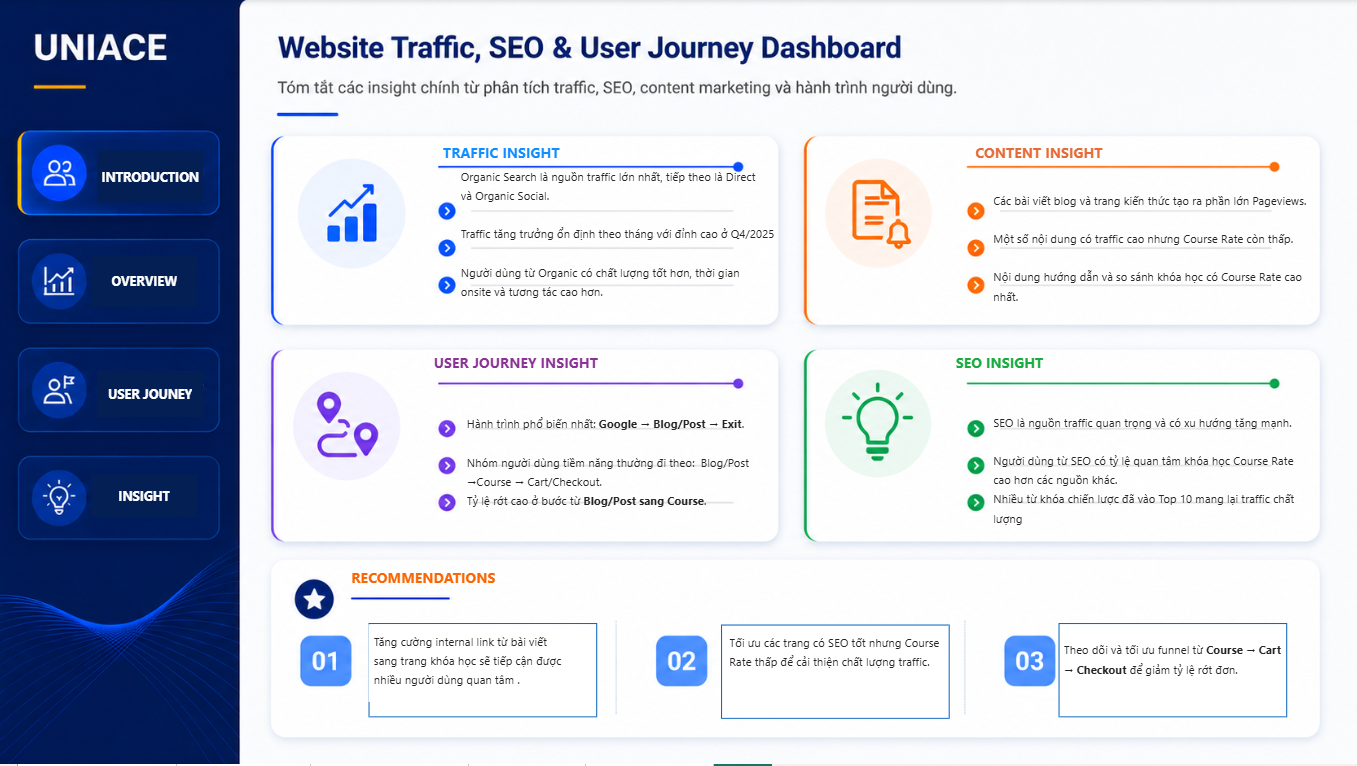

What the dashboard file says about the page in this screenshot:
{"tool":"powerbi","page":{"name":"Insight","canvas":[1280,720],"ordinal":3},"visuals":[{"type":"shape","box":[997.5,586.2,215,88.8],"z":0},{"type":"textbox","box":[430,151,343,147],"z":1000},{"type":"textbox","box":[930,173.5,323.5,136],"z":2000},{"type":"textbox","box":[435,383.1,301.1,130],"z":3000},{"type":"shape","box":[680,587.5,215,88.8],"z":4000},{"type":"shape","box":[348.8,586.2,215,88.8],"z":5000},{"type":"textbox","box":[930,382.5,301.2,145],"z":6000},{"type":"textbox","box":[348.8,587.5,205,72.5],"z":7000},{"type":"textbox","box":[682.5,571.2,212.5,121.2],"z":8000},{"type":"textbox","box":[997.5,577.5,215,108.8],"z":9000},{"type":"textbox","box":[413.8,130,300,42.5],"z":10000},{"type":"textbox","box":[404.4,327.8,300,42.2],"z":11000},{"type":"textbox","box":[913.3,130,300,42.2],"z":12000},{"type":"textbox","box":[895.6,327.8,300,42.2],"z":13000},{"type":"textbox","box":[326.7,528.3,300,41.7],"z":14000},{"type":"actionButton","box":[87.1,241.4,100,48.6],"z":15000},{"type":"actionButton","box":[92.5,349.2,100,43.3],"z":16000},{"type":"actionButton","box":[93.8,142.5,100,48.8],"z":17000},{"type":"actionButton","box":[87.5,447.5,100,40],"z":18000}]}

Visuals, with their boxes in screenshot pixels (x1, y1, x2, y2), scaled from the page's 1280x720 canvas onto the 1357x766 screenshot:
shape: <box>1058,624,1285,718</box>
textbox: <box>456,161,820,317</box>
textbox: <box>986,185,1329,329</box>
textbox: <box>461,408,780,546</box>
shape: <box>721,625,949,720</box>
shape: <box>370,624,598,718</box>
textbox: <box>986,407,1305,561</box>
textbox: <box>370,625,587,702</box>
textbox: <box>724,608,949,737</box>
textbox: <box>1058,614,1285,730</box>
textbox: <box>439,138,757,184</box>
textbox: <box>429,349,747,394</box>
textbox: <box>968,138,1286,183</box>
textbox: <box>949,349,1268,394</box>
textbox: <box>346,562,664,606</box>
actionButton: <box>92,257,198,309</box>
actionButton: <box>98,372,204,418</box>
actionButton: <box>99,152,205,204</box>
actionButton: <box>93,476,199,519</box>
